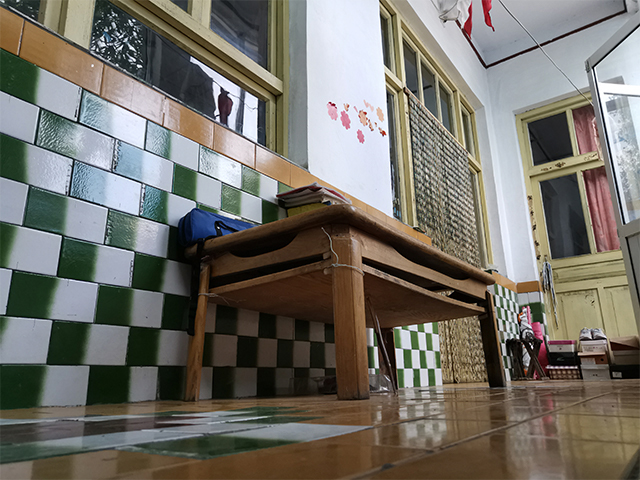stool: (504, 337, 552, 382)
table: (180, 199, 509, 403)
